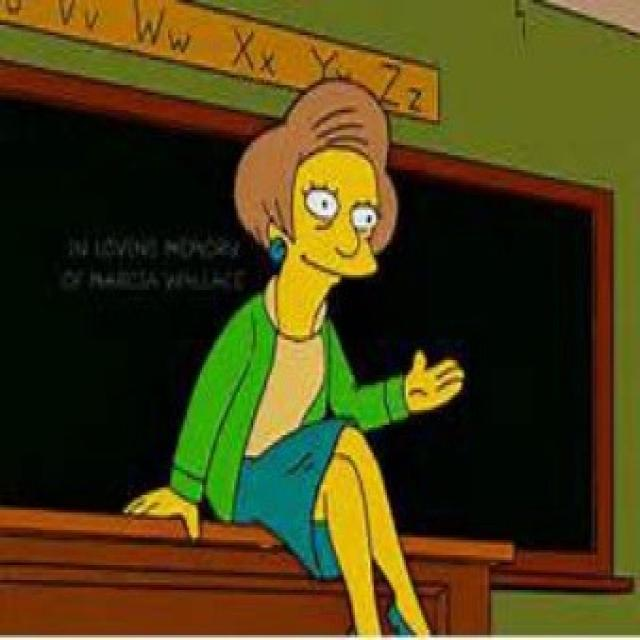Edna Krappel: (228, 74, 403, 341)
